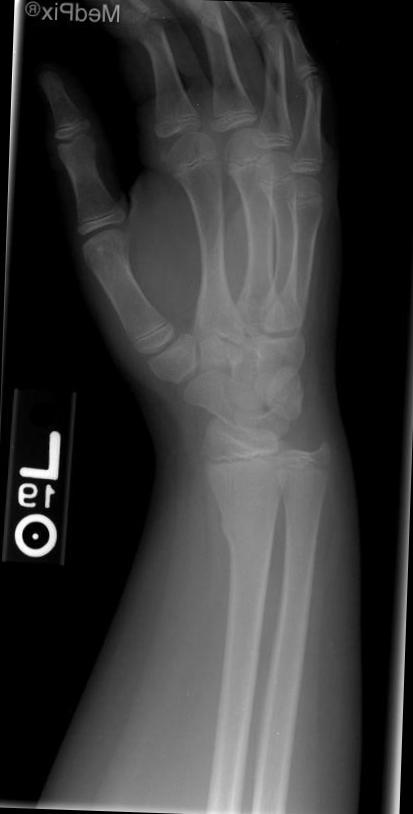fracture: (284, 457, 317, 472), (199, 150, 219, 166), (250, 152, 272, 166)
